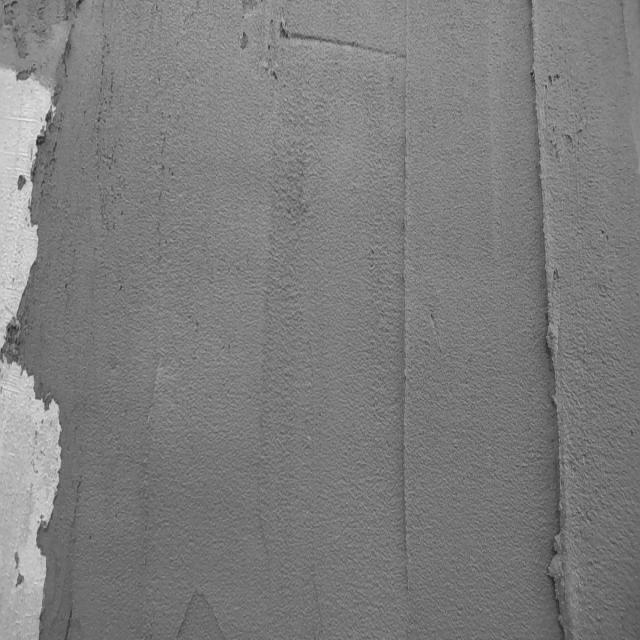trowels marks: (525, 6, 579, 640), (380, 9, 425, 578)
